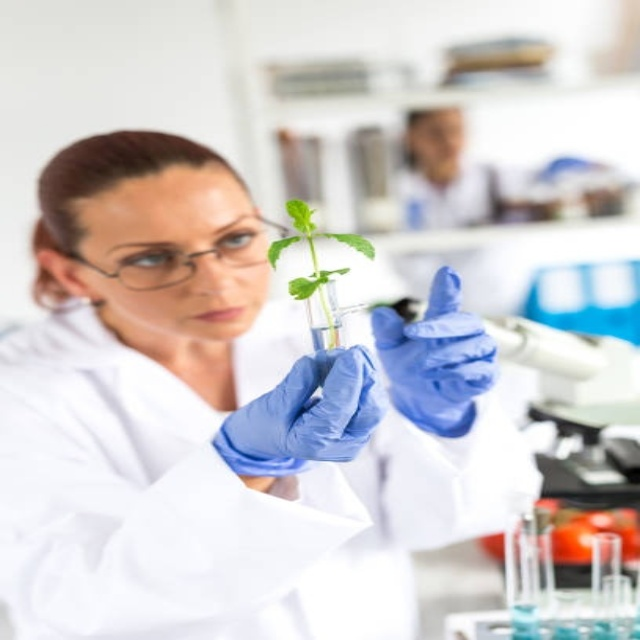Gafas: (61, 215, 289, 291)
Guantes: (212, 344, 388, 477), (372, 265, 501, 437)
Sin_mascara: (163, 293, 264, 337)
